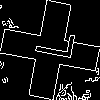L: (25, 25, 76, 61)
